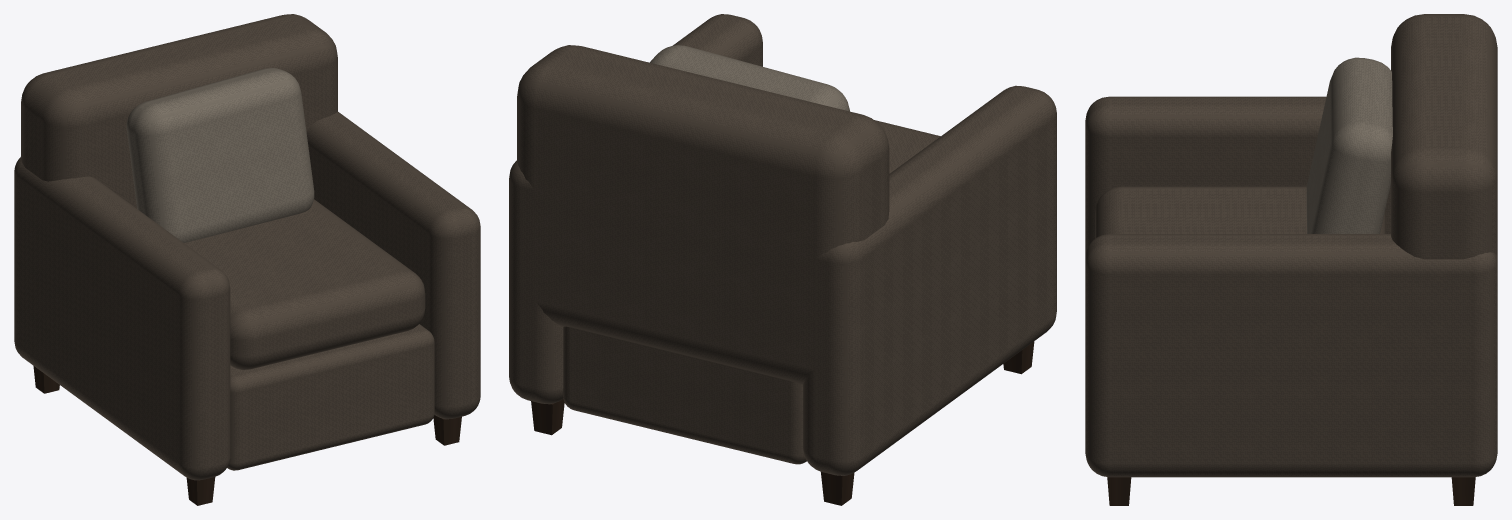
The model's file is sillon.glb.
3 views of the same model, side by side, from view 1: azimuth 30°, elevation 25°; view 2: azimuth 150°, elevation 25°; view 3: azimuth 270°, elevation 25° (orthographic). The views are drawn at different scales.
Visible parts, largest first — view 1: sillon; view 2: sillon; view 3: sillon.
Boxes of the visible parts, x1,y1,x2,y2 form: sillon: [14, 14, 480, 505]; sillon: [509, 14, 1056, 505]; sillon: [1085, 14, 1497, 505].
Bounding box in the file's own units: 0.8 × 0.8 × 0.85.
Materials: 3 (3 with a texture image).
